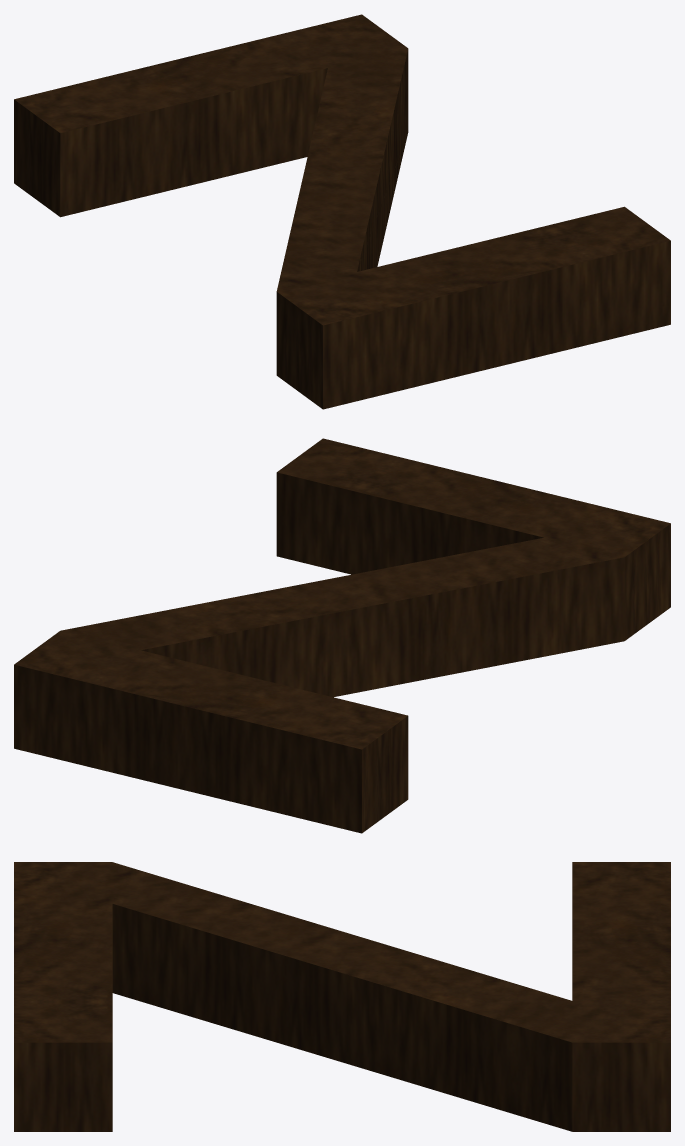
Rendered from LetterZ.obj.
The picture shows the model from 3 angles, top to bottom: view 1: azimuth 30°, elevation 25°; view 2: azimuth 150°, elevation 25°; view 3: azimuth 270°, elevation 25°; orthographic projection. The views are drawn at different scales.
Visible parts, largest first — view 1: LetterZ; view 2: LetterZ; view 3: LetterZ.
Boxes of the visible parts, bbox=[...] form: LetterZ: bbox=[14, 14, 670, 409]; LetterZ: bbox=[14, 438, 670, 833]; LetterZ: bbox=[14, 862, 670, 1131].
Bounding box in the file's own units: 0.65 × 0.15 × 1.
